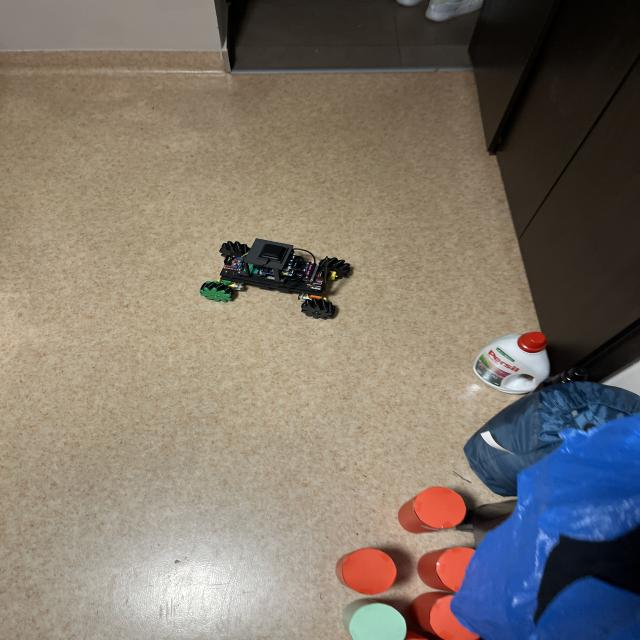robot: (200, 239, 351, 319)
